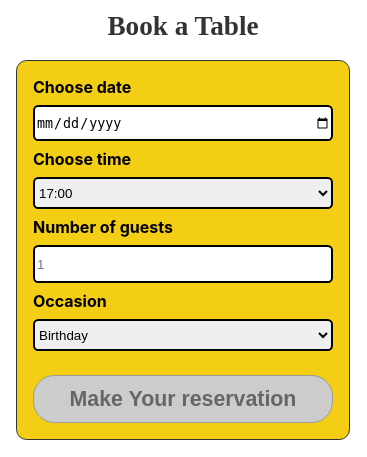
Scenario: Javascript validation is correct
The width and height of the screenshot is (367, 457).
Check: the button "Make Your reservation" is disabled, box [33, 375, 333, 423]
Step 1. Type "2025-05-10" into the date field labelled "Choose date" → {"x": 183, "y": 123}, box [33, 105, 333, 141]
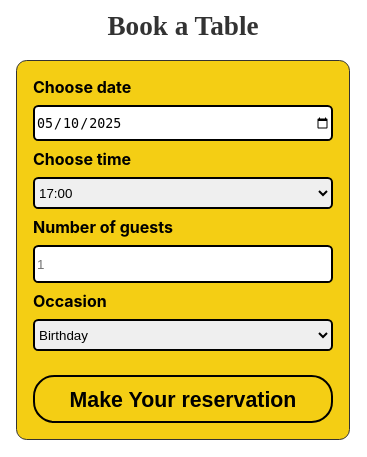
Check: the button "Make Your reservation" is enabled, box [33, 375, 333, 423]
Step 2. Type "2025-04-09" into the date field labelled "Choose date" → {"x": 183, "y": 123}, box [33, 105, 333, 141]
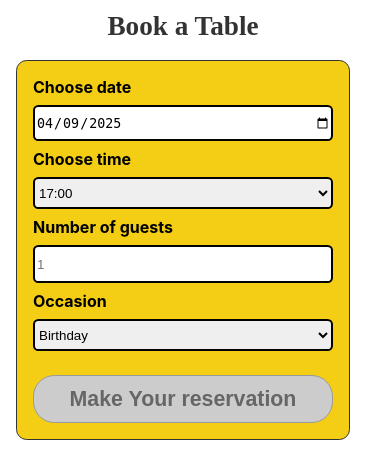
Check: the button "Make Your reservation" is disabled, box [33, 375, 333, 423]
